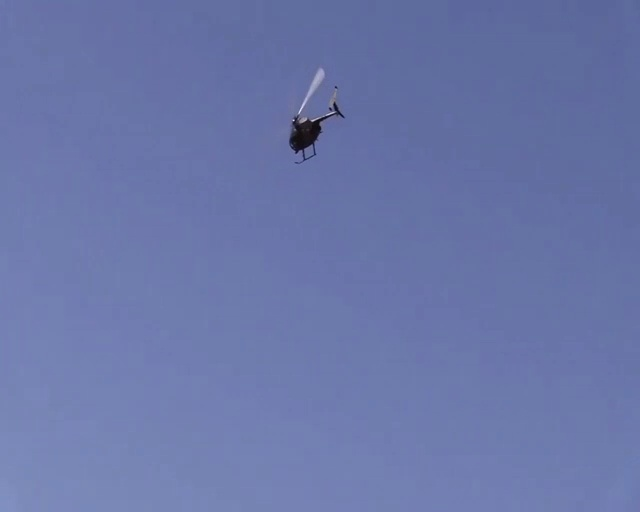HELICOPTER: (285, 67, 346, 164)
